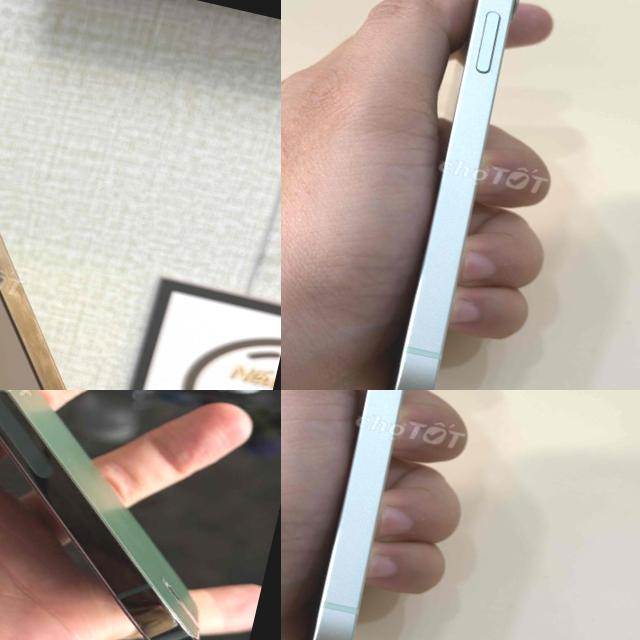gen_12_13: (364, 0, 565, 390), (0, 390, 281, 640), (281, 390, 482, 640)
gen_14: (0, 0, 190, 390)
